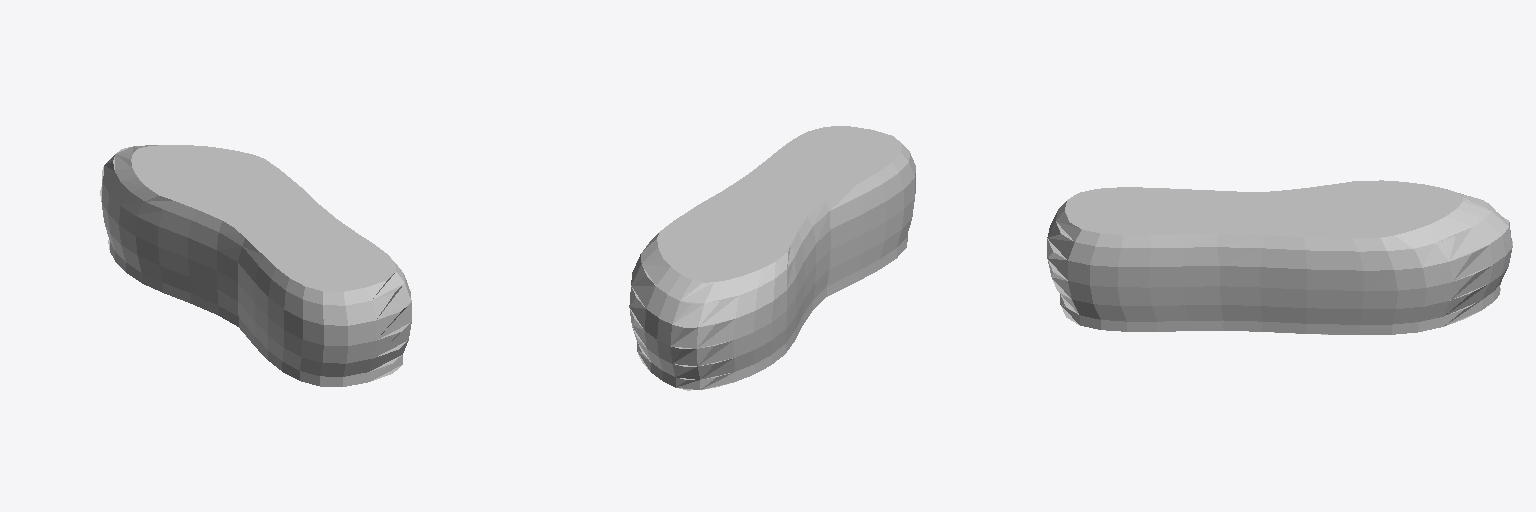
The model's file is shoe base.obj.
3 renders of one model, left to right at view 1: azimuth 30°, elevation 25°; view 2: azimuth 150°, elevation 25°; view 3: azimuth 270°, elevation 25°, orthographic.
Parts seen in each view (by area): view 1: shoe_base; view 2: shoe_base; view 3: shoe_base.
Part boxes in pixels (x1,y1,x2,y2): shoe_base: (100, 145, 411, 386); shoe_base: (629, 126, 915, 390); shoe_base: (1047, 180, 1512, 334).
Bounding box in the file's own units: 59.96 × 37.94 × 171.